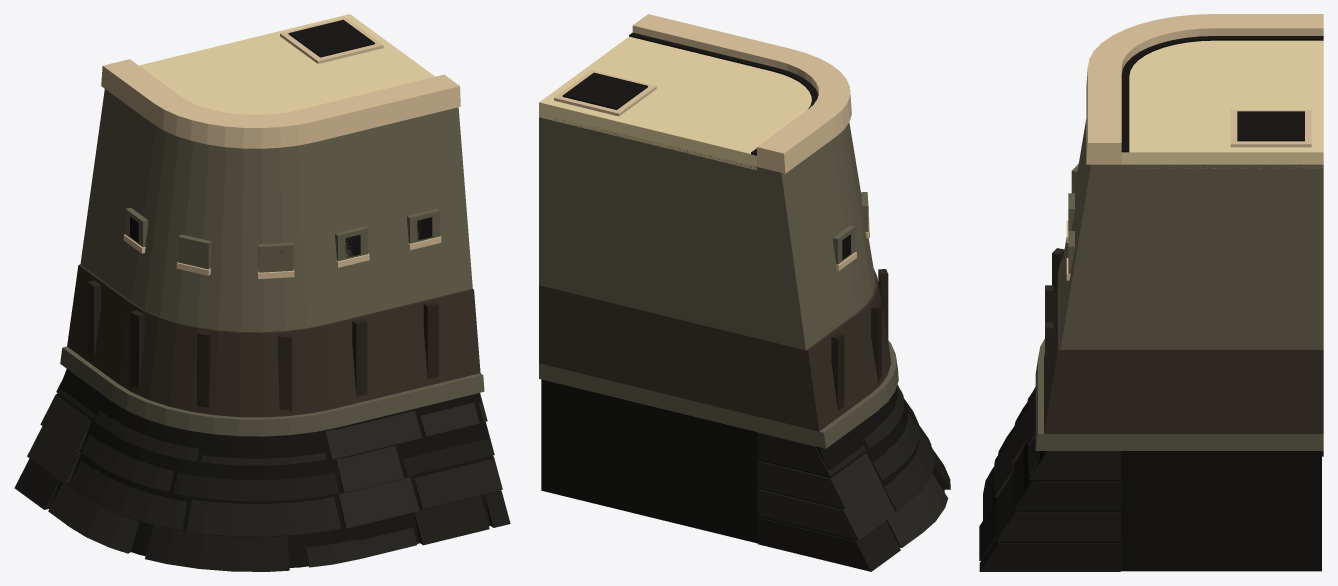
The model's file is VerTow01.glb.
3 views of the same model, side by side, from view 1: azimuth 30°, elevation 25°; view 2: azimuth 150°, elevation 25°; view 3: azimuth 270°, elevation 25° (orthographic). The views are drawn at different scales.
Parts seen in each view (by area): view 1: VerTow01_mortar; view 2: VerTow01_mortar; view 3: VerTow01_mortar.
Boxes of the visible parts, x1,y1,x2,y2 form: VerTow01_mortar: (14, 14, 510, 571); VerTow01_mortar: (539, 14, 950, 571); VerTow01_mortar: (979, 14, 1323, 571).
Size of the model in its own units: 4.9 by 5.6 by 4.07.
